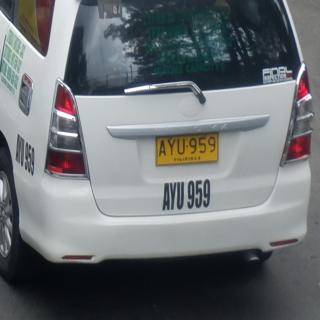license: (157, 134, 219, 166)
